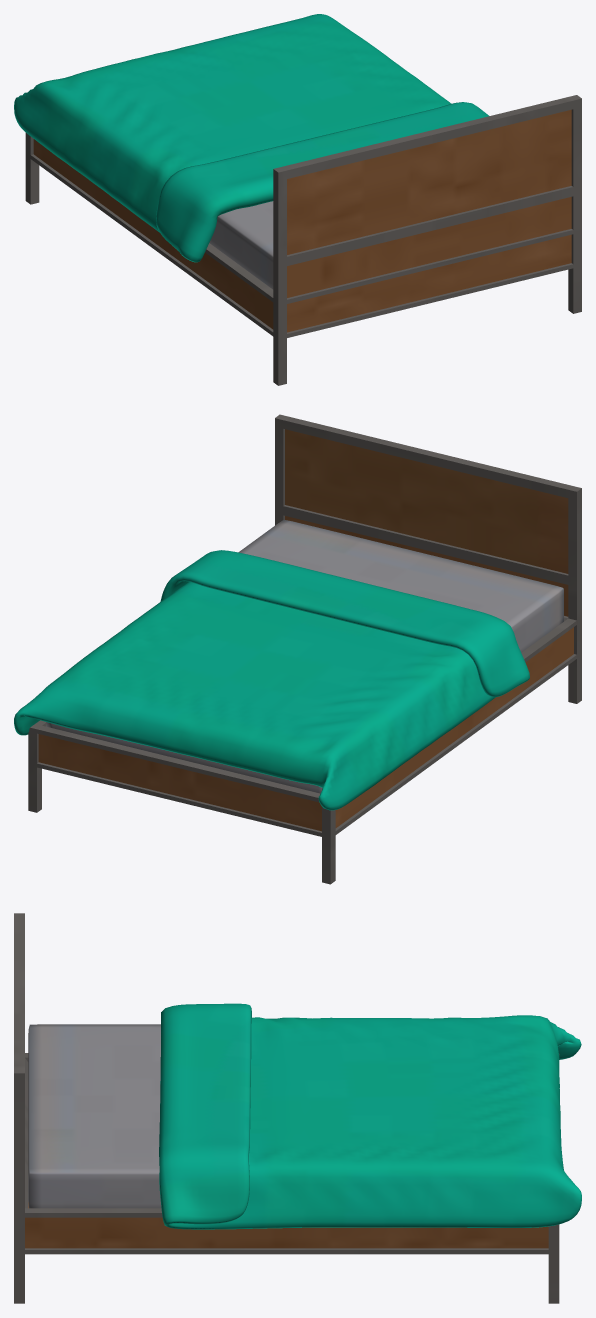
Rendered from Bed08.glb.
3 views of the same model, one above another, from view 1: azimuth 30°, elevation 25°; view 2: azimuth 150°, elevation 25°; view 3: azimuth 270°, elevation 25° (orthographic). The views are drawn at different scales.
Parts seen in each view (by area): view 1: BedFrame08, Blanket08, Mattress08; view 2: Blanket08, BedFrame08, Mattress08; view 3: Blanket08, Mattress08, BedFrame08.
Boxes of the visible parts, x1,y1,x2,y2 form: BedFrame08: (25, 95, 581, 385); Blanket08: (14, 14, 489, 262); Mattress08: (209, 201, 273, 289); Blanket08: (14, 550, 529, 810); BedFrame08: (28, 414, 581, 884); Mattress08: (46, 520, 563, 793); Blanket08: (159, 1003, 581, 1229); Mattress08: (28, 1024, 161, 1208); BedFrame08: (14, 913, 559, 1303).
Bounding box in the file's own units: 3.98 × 2.3 × 5.14.
Materials: 3 (3 with a texture image).
